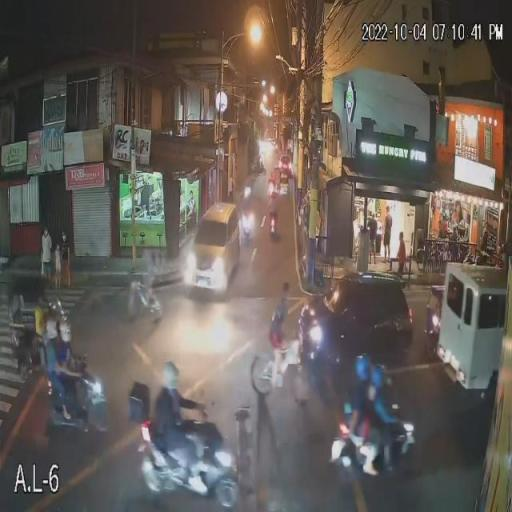helmet: (159, 359, 185, 393), (374, 362, 390, 392), (356, 347, 370, 379), (59, 323, 73, 339), (45, 323, 59, 338), (272, 185, 280, 200)
motorcycle: (149, 426, 235, 498), (334, 412, 422, 469), (43, 369, 109, 433), (244, 212, 256, 245), (269, 209, 282, 239)
rider: (160, 343, 186, 447), (370, 350, 398, 427), (352, 346, 374, 436), (43, 318, 65, 392), (60, 321, 76, 388), (270, 187, 280, 216)
